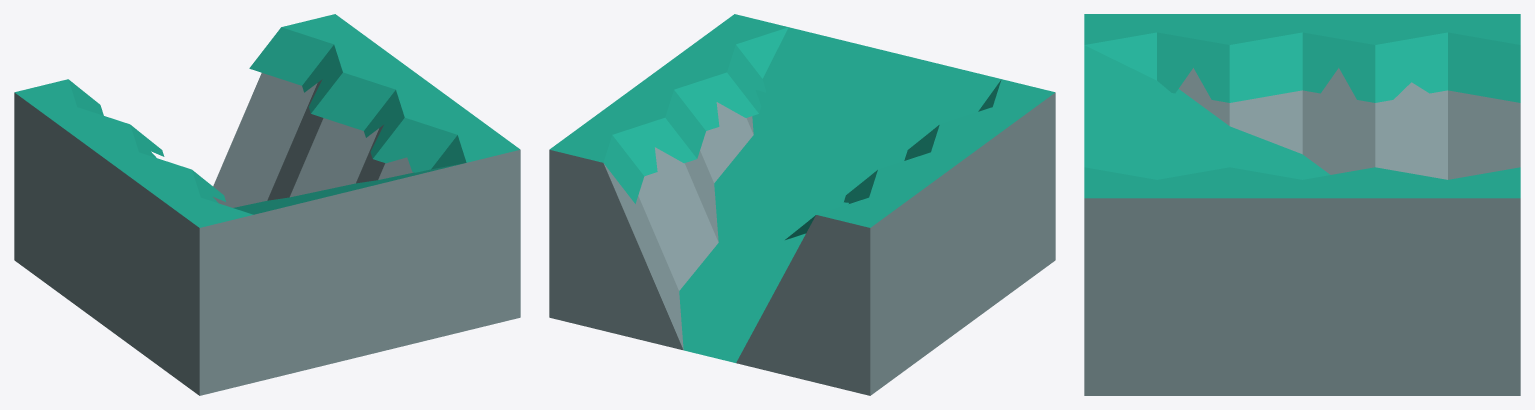
File: cliff_blockSlopeHalfWalls_stone.glb
3 renders of one model, left to right at view 1: azimuth 30°, elevation 25°; view 2: azimuth 150°, elevation 25°; view 3: azimuth 270°, elevation 25°, orthographic. The views are drawn at different scales.
Visible parts, largest first — view 1: cliff_blockSlopeHalfWalls_stone; view 2: cliff_blockSlopeHalfWalls_stone; view 3: cliff_blockSlopeHalfWalls_stone.
Part boxes in pixels (<box>): cliff_blockSlopeHalfWalls_stone: <box>14,14,520,395</box>; cliff_blockSlopeHalfWalls_stone: <box>549,14,1055,395</box>; cliff_blockSlopeHalfWalls_stone: <box>1084,14,1520,395</box>.
Bounding box in the file's own units: 1.16 × 0.5808 × 1.16.
